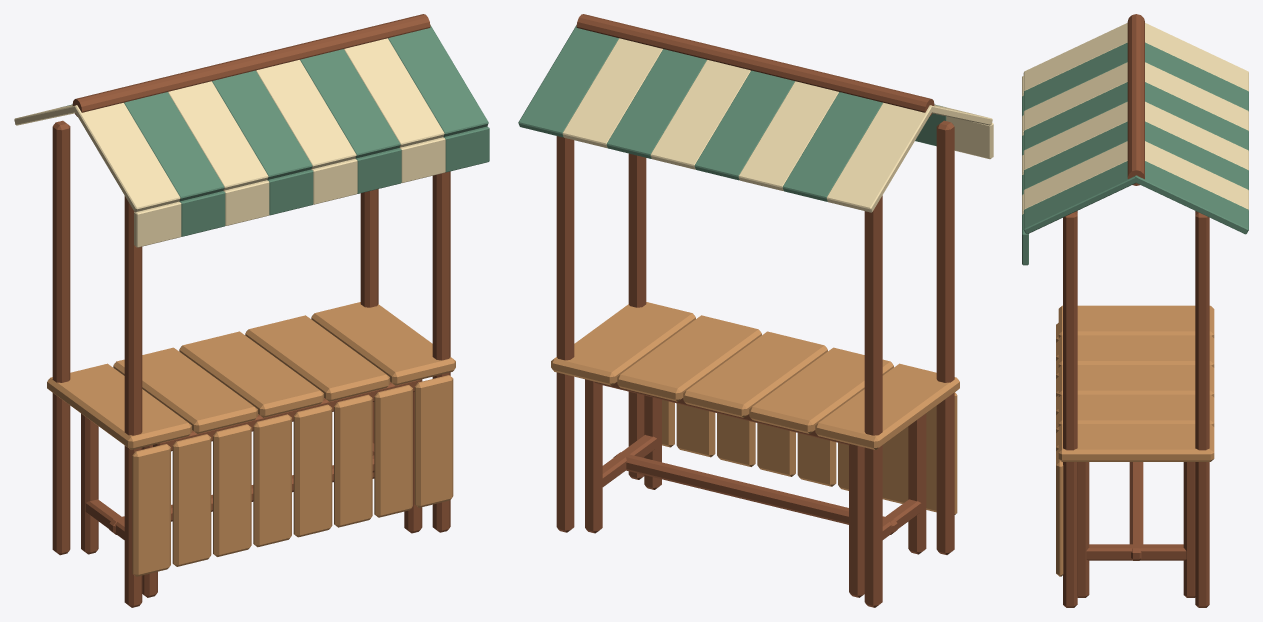
Rendered from 01_Awning_Stall.glb.
3 renders of one model, left to right at view 1: azimuth 30°, elevation 25°; view 2: azimuth 150°, elevation 25°; view 3: azimuth 270°, elevation 25°, orthographic. The views are drawn at different scales.
Visible parts, largest first — view 1: 01_Awning_Stall; view 2: 01_Awning_Stall; view 3: 01_Awning_Stall.
Boxes of the visible parts, bbox=[...] form: 01_Awning_Stall: bbox=[14, 14, 489, 607]; 01_Awning_Stall: bbox=[518, 14, 993, 607]; 01_Awning_Stall: bbox=[1022, 14, 1248, 607].
Bounding box in the file's own units: 1.92 × 2.53 × 1.17.
